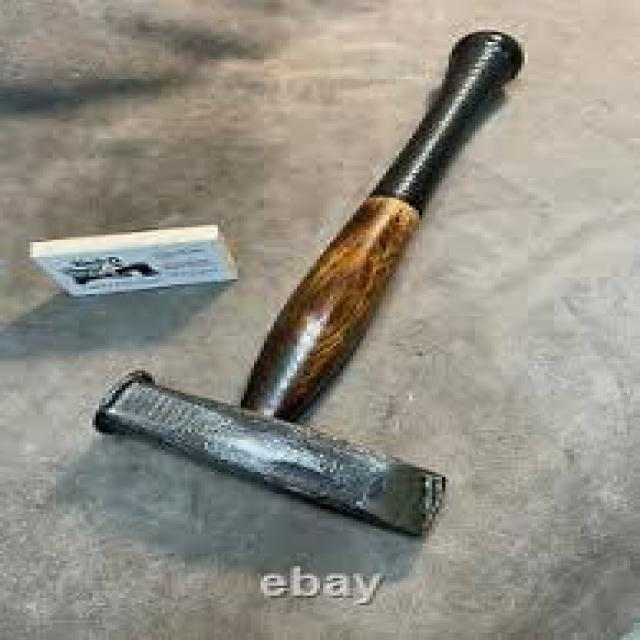hammer: (81, 25, 533, 542)
